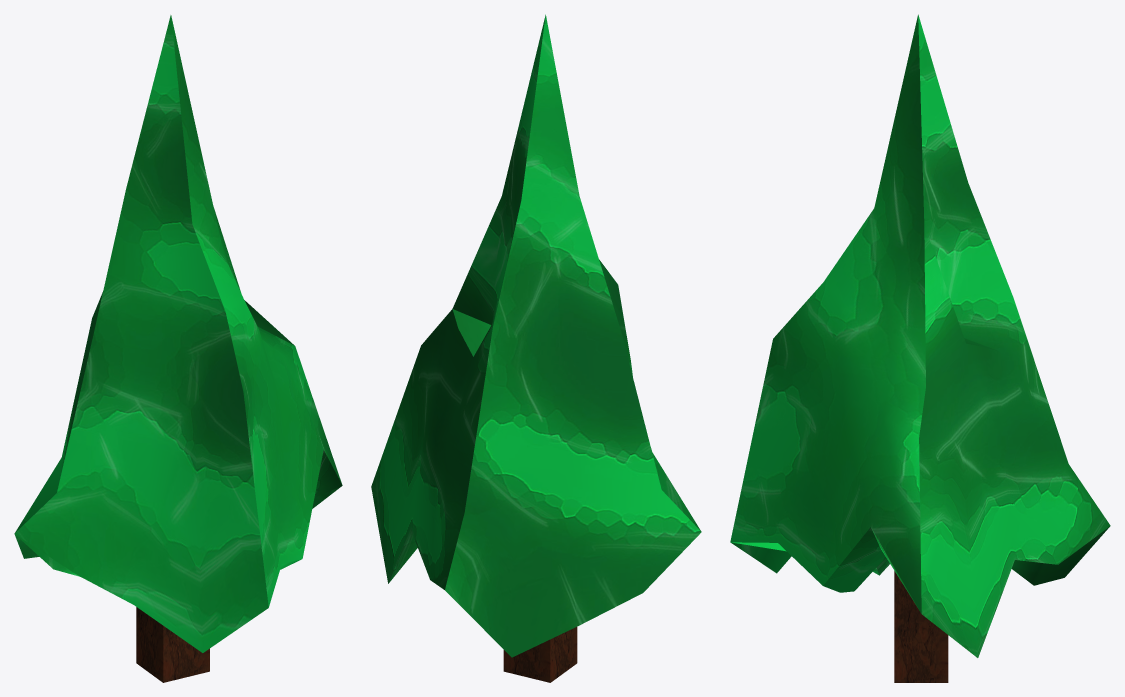
File: pinetree1.fbx
The picture shows the model from 3 angles, left to right: view 1: azimuth 30°, elevation 25°; view 2: azimuth 150°, elevation 25°; view 3: azimuth 270°, elevation 25°; orthographic projection.
Visible parts, largest first — view 1: polymsh; view 2: polymsh; view 3: polymsh.
Part boxes in pixels (left/top/right/bottom): polymsh: left=14, top=15, right=342, bottom=682; polymsh: left=371, top=14, right=701, bottom=682; polymsh: left=730, top=14, right=1110, bottom=682.
Bounding box in the file's own units: 56.38 × 107 × 56.27.
